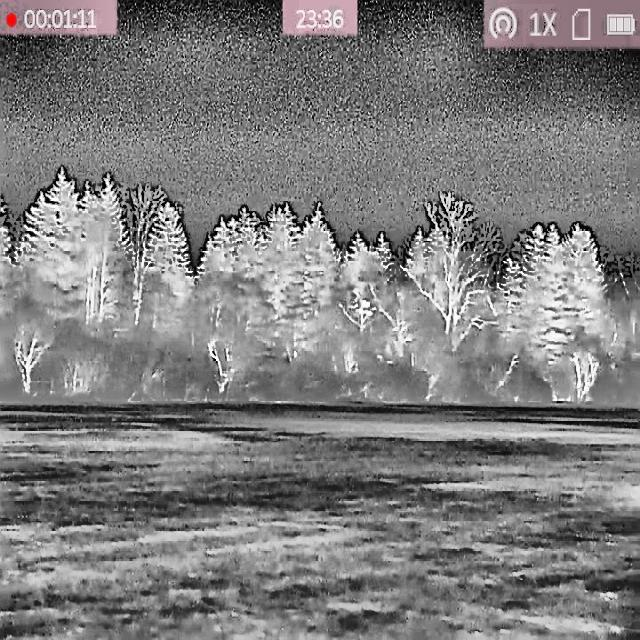drone: (358, 295, 379, 320)
